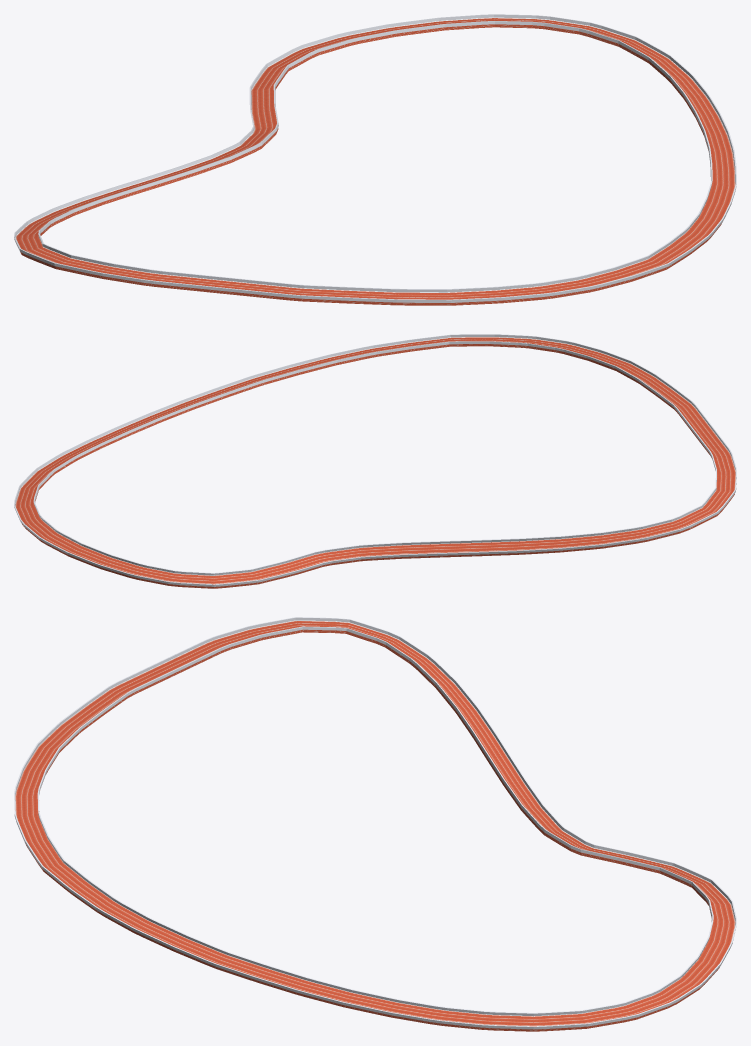
Rendered from piste_tex.obj.
3 views of the same model, one above another, from view 1: azimuth 30°, elevation 25°; view 2: azimuth 150°, elevation 25°; view 3: azimuth 270°, elevation 25° (orthographic). The views are drawn at different scales.
Visible parts, largest first — view 1: Cube_Cube.001, Cube.001_Cube.002; view 2: Cube_Cube.001, Cube.001_Cube.002; view 3: Cube_Cube.001, Cube.001_Cube.002.
Boxes of the visible parts, x1,y1,x2,y2 form: Cube_Cube.001: [16, 18, 735, 305]; Cube.001_Cube.002: [14, 14, 736, 302]; Cube_Cube.001: [15, 337, 735, 588]; Cube.001_Cube.002: [14, 334, 736, 586]; Cube_Cube.001: [15, 621, 735, 1031]; Cube.001_Cube.002: [14, 617, 736, 1029].
Bounding box in the file's own units: 111 × 10.23 × 96.15.
2 materials, 1 textured.
